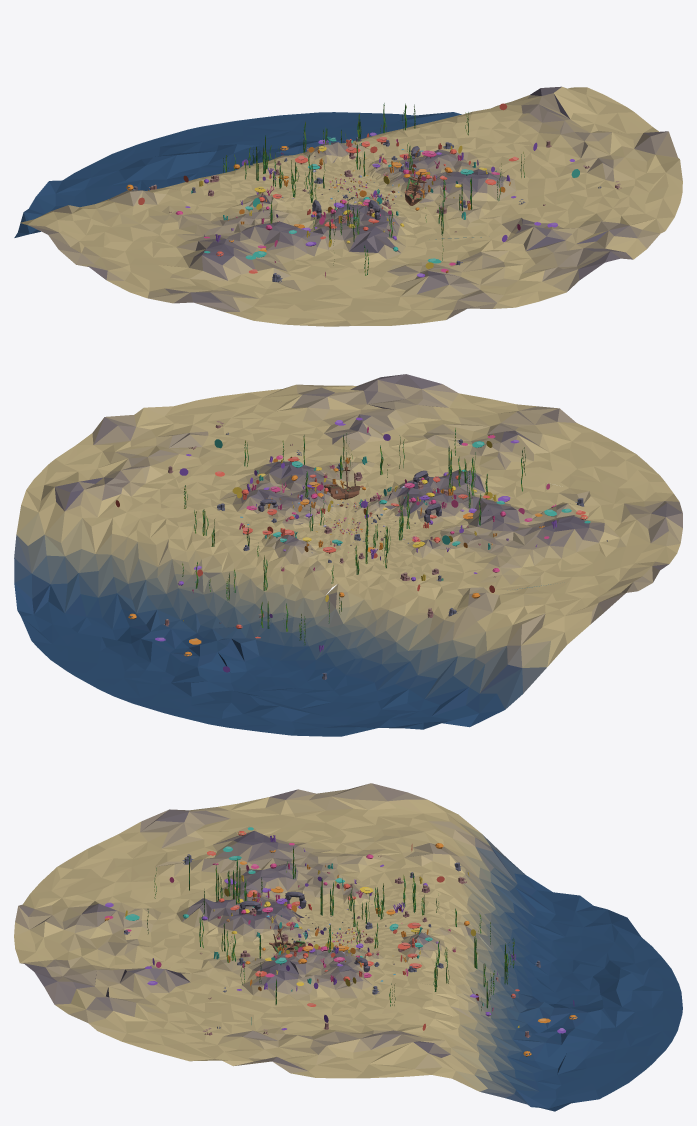
Rendered from world_aquarium_lite.glb.
3 renders of one model, top to bottom at view 1: azimuth 30°, elevation 25°; view 2: azimuth 150°, elevation 25°; view 3: azimuth 270°, elevation 25°, orthographic.
Visible parts, largest first — view 1: Sector1, Sector3, Sector2, Sector0, Sector7, Sector4, Sector6, Sector5; view 2: Sector7, Sector5, Sector4, Sector6, Sector2, Sector1, Sector3, Sector0; view 3: Sector7, Sector1, Sector5, Sector6, Sector3, Sector2, Sector0, Sector4.
Boxes of the visible parts, bbox=[...] form: Sector1: bbox=[254, 185, 514, 326]; Sector3: bbox=[349, 112, 682, 223]; Sector2: bbox=[349, 157, 674, 307]; Sector0: bbox=[59, 168, 348, 320]; Sector7: bbox=[14, 150, 347, 253]; Sector4: bbox=[349, 86, 634, 184]; Sector6: bbox=[24, 129, 347, 214]; Sector5: bbox=[188, 112, 452, 185]; Sector7: bbox=[349, 506, 637, 727]; Sector5: bbox=[21, 506, 347, 715]; Sector4: bbox=[14, 459, 347, 632]; Sector6: bbox=[175, 527, 440, 736]; Sector2: bbox=[250, 374, 518, 526]; Sector1: bbox=[349, 404, 673, 526]; Sector3: bbox=[55, 392, 347, 526]; Sector0: bbox=[349, 492, 682, 591]; Sector7: bbox=[331, 783, 579, 936]; Sector1: bbox=[14, 834, 347, 943]; Sector5: bbox=[349, 923, 682, 1103]; Sector6: bbox=[349, 874, 682, 1008]; Sector3: bbox=[121, 925, 362, 1078]; Sector2: bbox=[14, 915, 347, 1041]; Sector0: bbox=[118, 789, 359, 936]; Sector4: bbox=[336, 921, 575, 1111].
Bounding box in the file's own units: 300 × 56.9 × 300.
